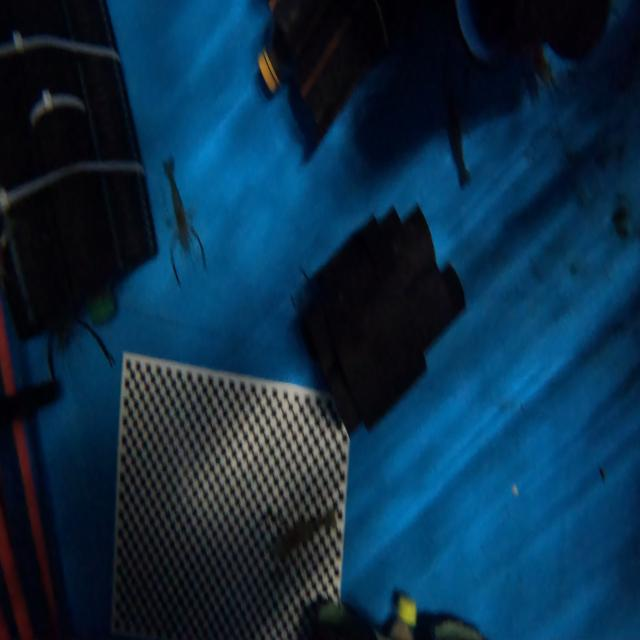prawn: (270, 509, 342, 562), (164, 159, 203, 255)
